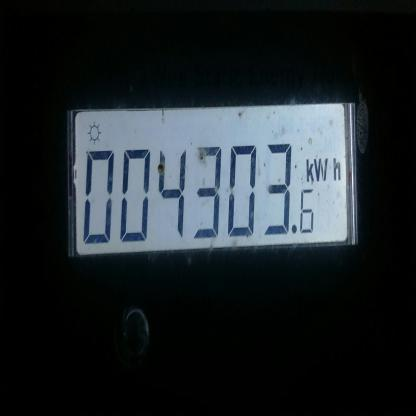.: (300, 157, 348, 183)
0: (289, 221, 298, 238)
1: (79, 146, 115, 246), (224, 143, 257, 240), (119, 147, 151, 245)
4: (192, 143, 224, 237), (261, 140, 291, 237)
5: (155, 146, 189, 237)
7: (298, 186, 319, 235)
